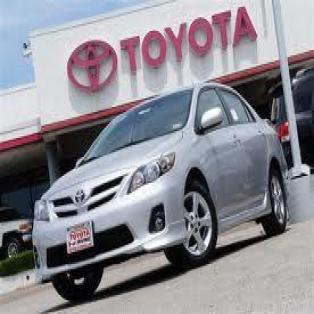Auto: (26, 76, 297, 307)
